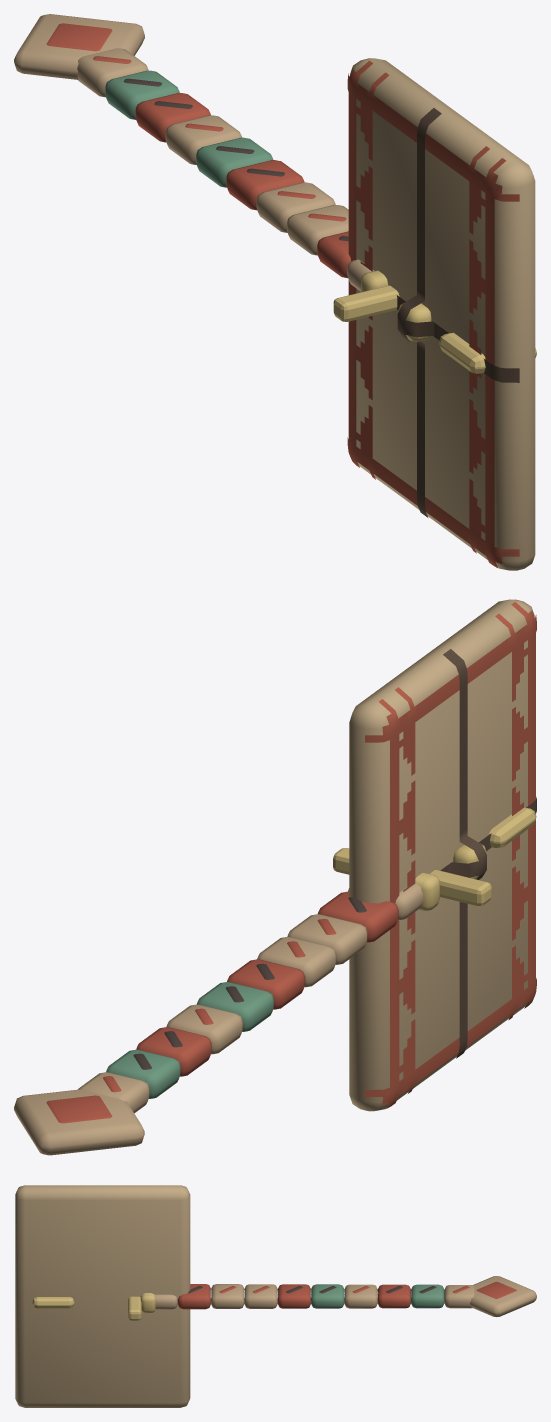
The model's file is equipment.glb.
3 renders of one model, top to bottom at view 1: azimuth 30°, elevation 25°; view 2: azimuth 150°, elevation 25°; view 3: azimuth 270°, elevation 25°, orthographic. The views are drawn at different scales.
Parts seen in each view (by area): view 1: Shield, Scabbard, Sword; view 2: Shield, Scabbard, Sword; view 3: Shield, Scabbard, Sword.
Boxes of the visible parts, bbox=[...] form: Shield: bbox=[347, 58, 535, 570]; Scabbard: bbox=[14, 14, 388, 292]; Sword: bbox=[333, 285, 536, 373]; Shield: bbox=[349, 599, 536, 1111]; Scabbard: bbox=[14, 873, 439, 1155]; Sword: bbox=[333, 807, 536, 906]; Shield: bbox=[15, 1185, 190, 1407]; Scabbard: bbox=[140, 1276, 536, 1317]; Sword: bbox=[32, 1289, 411, 1320].
Bounding box in the file's own units: 0.195 × 0.5055 × 1.08.
